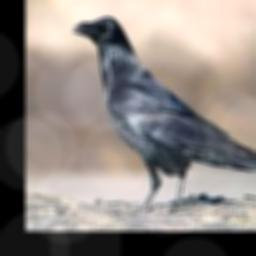Crow: (72, 15, 256, 210)
